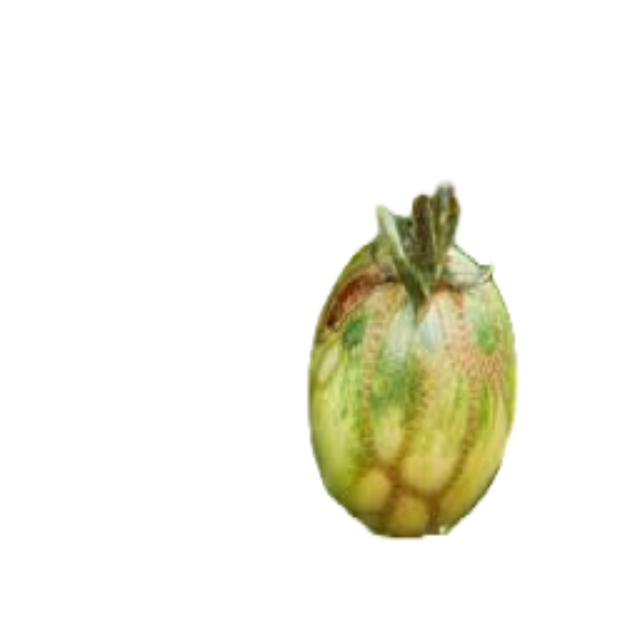defect: (303, 190, 528, 543)
